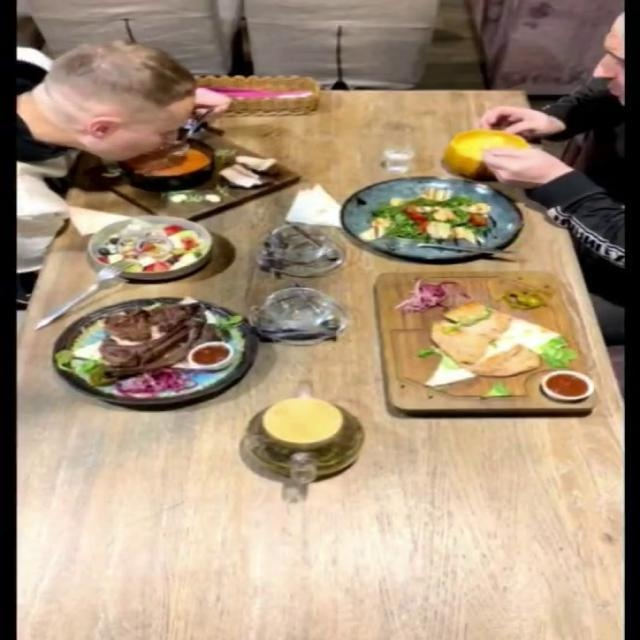meat: (368, 267, 602, 417), (51, 295, 261, 405)
salad: (343, 176, 526, 260), (86, 214, 214, 279)
soup: (73, 132, 303, 220), (443, 129, 531, 179)
tea: (244, 394, 367, 482)
